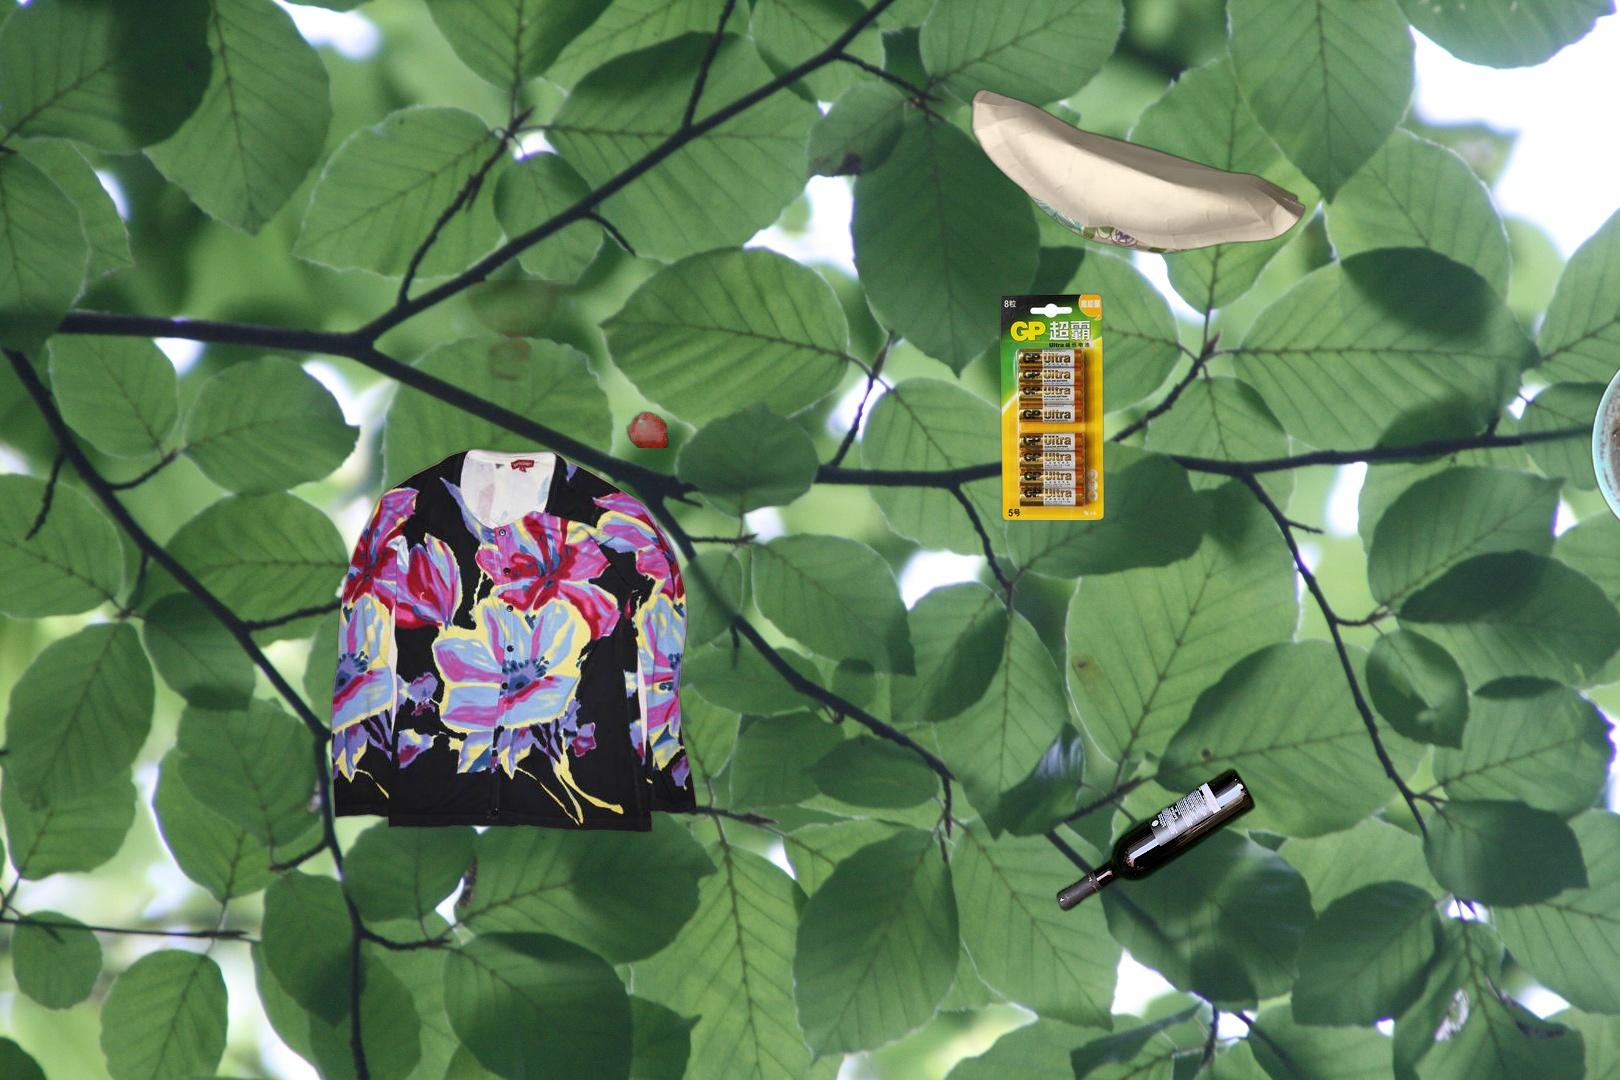battery: (997, 290, 1107, 522)
biological: (454, 280, 755, 448), (1587, 181, 1620, 554)
clothes: (327, 444, 699, 837)
glass: (1052, 372, 1260, 917)
paper: (967, 87, 1310, 258)
